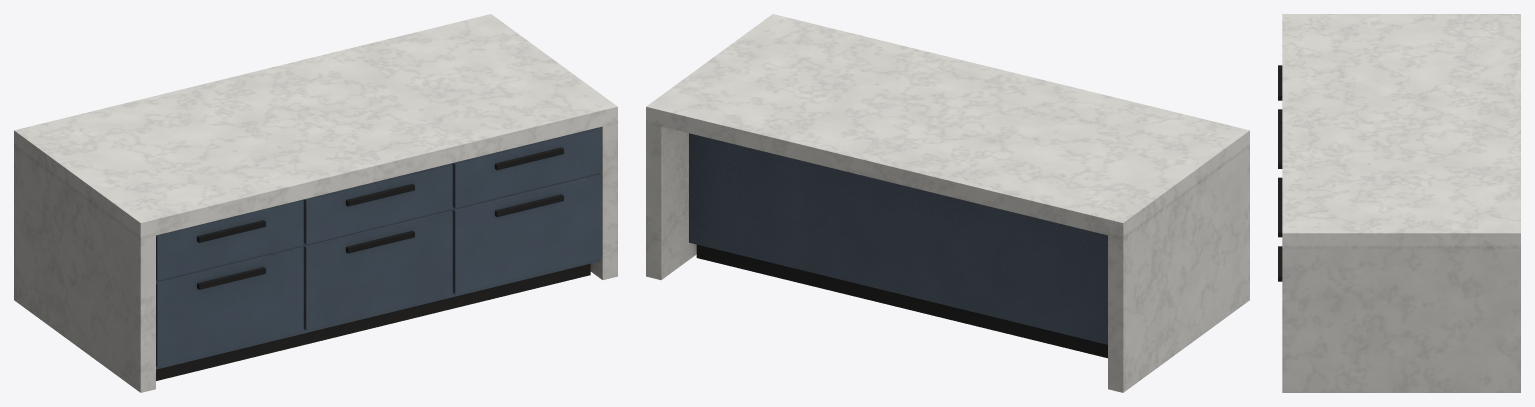
File: H_KitchenIsland.fbx
3 renders of one model, left to right at view 1: azimuth 30°, elevation 25°; view 2: azimuth 150°, elevation 25°; view 3: azimuth 270°, elevation 25°, orthographic. The views are drawn at different scales.
Parts seen in each view (by area): view 1: H_KitchenIsland; view 2: H_KitchenIsland; view 3: H_KitchenIsland.
Boxes of the visible parts, box(x1,y1,x2,y2) form: H_KitchenIsland: box(14, 14, 617, 392); H_KitchenIsland: box(646, 14, 1249, 392); H_KitchenIsland: box(1278, 14, 1520, 392).
Size of the model in its own units: 1000 by 340 by 468.
Materials: 1 (1 with a texture image).
